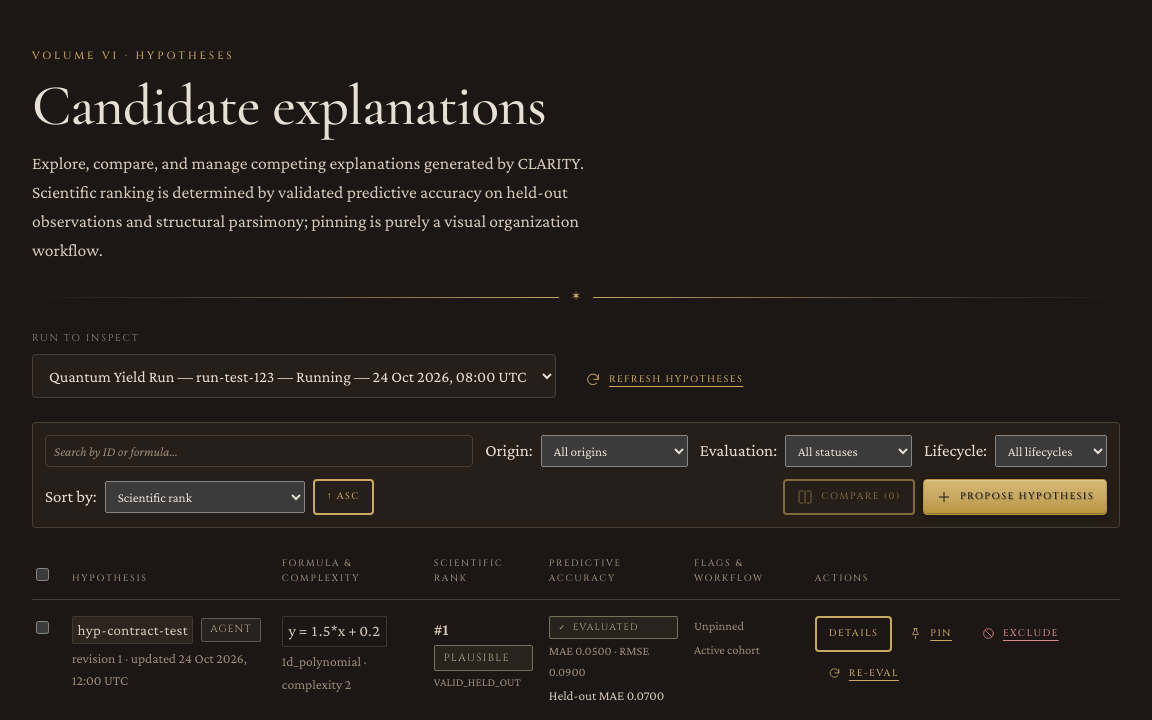
HypothesesPage Component › renders correctly from serialized backend response shape (contract verification)
Check: the text "hyp-contract-test" is shown, box [72,616,193,644]
Check: the text "#1" is shown, box [434,620,448,639]
// Open detail modal and switch to Evidence
Click the button "Details": (854, 634) [815,616,892,652]
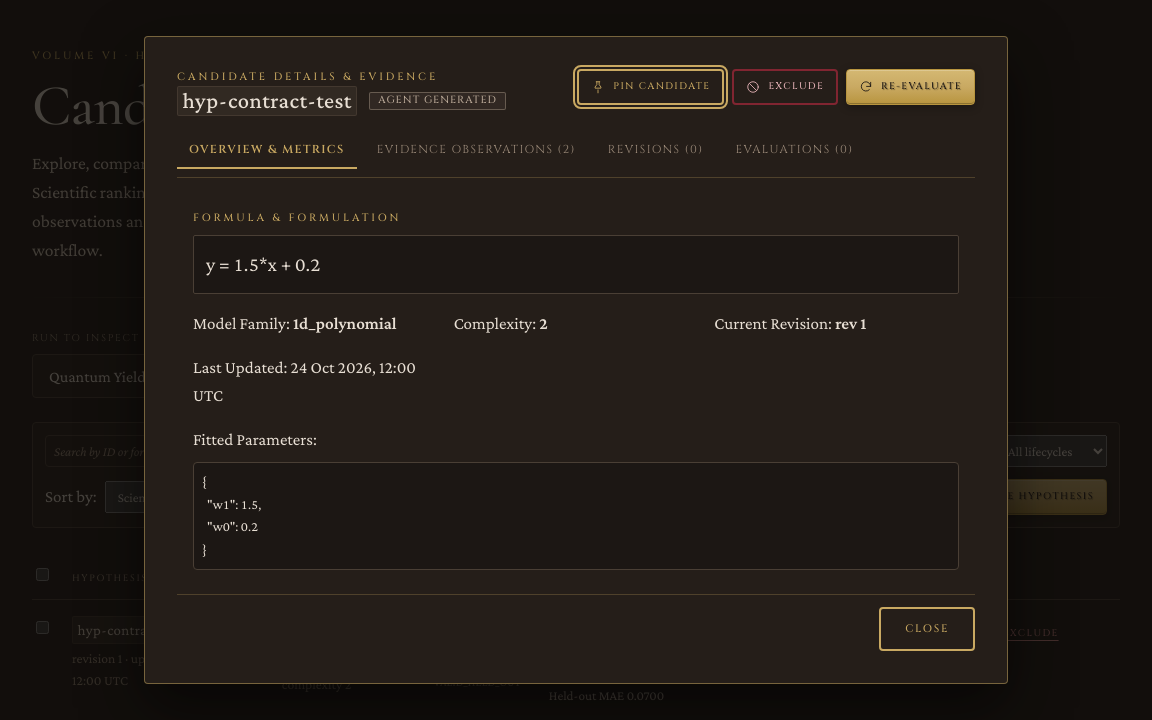
Click the tab "Evidence Observations (2)": (476, 150) [365,132,588,169]
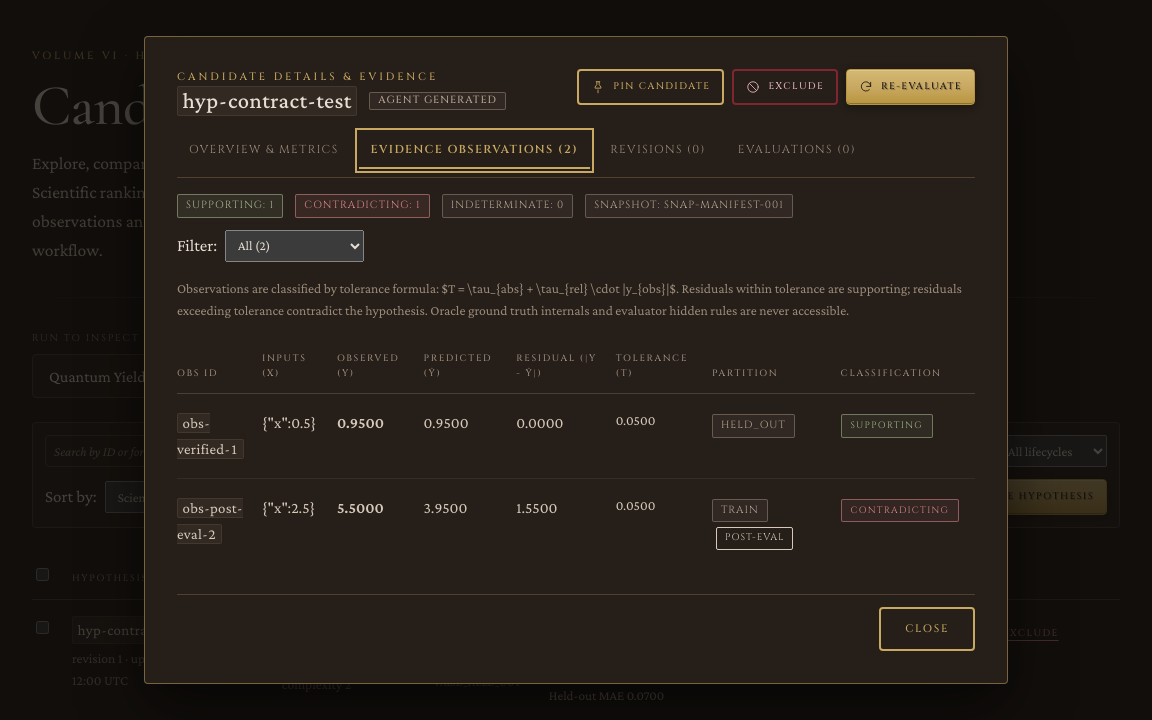
Check: the tab "Evidence Observations (2)" is shown, box [358,132,590,169]
Check: the text "Snapshot: snap-manifest-001" is shown, box [585,194,793,218]
Check: the text "obs-verified-1" is shown, box [177,413,244,459]
